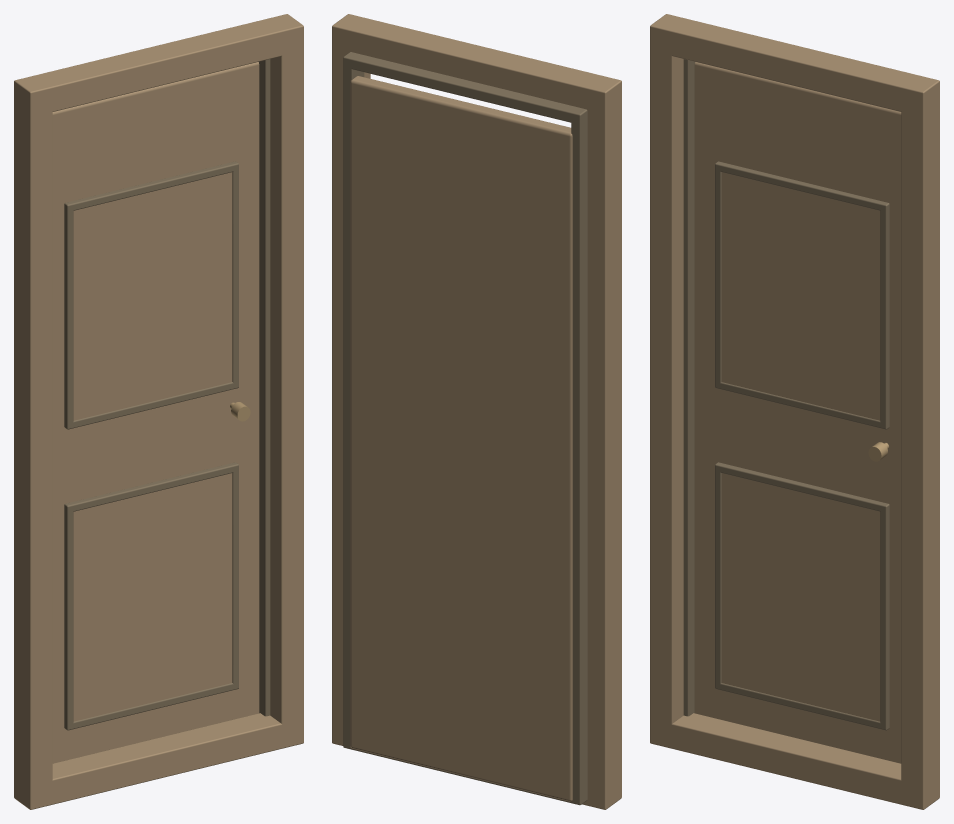
The model's file is doorway.glb.
3 renders of one model, left to right at view 1: azimuth 30°, elevation 25°; view 2: azimuth 150°, elevation 25°; view 3: azimuth 330°, elevation 25°, orthographic.
Visible parts, largest first — view 1: solid-door, door-panel-1-72-inset, door-panel-0-61-inset, door-architrave-stile--1, door-architrave-stile-1, door-architrave-rail--1, door-architrave-rail-1, stepped-reveal-stile-1, door-panel-0-61-stile--1, door-panel-1-72-stile--1, door-panel-0-61-rail-1, door-panel-1-72-rail-1 (+4 smaller); view 2: solid-door, door-architrave-stile--1, stepped-reveal-stile--1, door-architrave-rail-1, door-architrave-stile-1, stepped-reveal-stile-1, stepped-reveal-rail-1, door-architrave-rail--1, stepped-reveal-rail--1; view 3: solid-door, door-panel-1-72-inset, door-panel-0-61-inset, door-architrave-stile-1, door-architrave-stile--1, door-architrave-rail-1, door-architrave-rail--1, stepped-reveal-stile--1, door-panel-1-72-stile-1, door-panel-0-61-stile-1, door-panel-0-61-rail-1, door-panel-1-72-rail-1 (+4 smaller).
Boxes of the visible parts, x1,y1,x2,y2 form: solid-door: (52,62,259,763); door-panel-1-72-inset: (73,172,232,420); door-panel-0-61-inset: (73,473,232,721); door-architrave-stile--1: (14,75,52,809); door-architrave-stile-1: (267,14,303,746); door-architrave-rail--1: (14,713,303,809); door-architrave-rail-1: (14,19,303,116); stepped-reveal-stile-1: (259,59,270,716); door-panel-0-61-stile--1: (64,502,73,730); door-panel-1-72-stile--1: (64,202,73,429); door-panel-0-61-rail-1: (65,463,237,512); door-panel-1-72-rail-1: (66,161,238,210); solid-door: (350,76,572,801); door-architrave-stile--1: (584,75,621,809); stepped-reveal-stile--1: (571,108,587,805); door-architrave-rail-1: (332,19,621,116); door-architrave-stile-1: (332,14,370,743); stepped-reveal-stile-1: (343,54,364,748); stepped-reveal-rail-1: (343,52,586,123); door-architrave-rail--1: (332,719,621,809); stepped-reveal-rail--1: (343,738,587,804); solid-door: (694,62,901,763); door-panel-1-72-inset: (721,172,880,420); door-panel-0-61-inset: (721,473,880,721); door-architrave-stile-1: (901,75,939,802); door-architrave-stile--1: (650,14,686,746); door-architrave-rail-1: (650,19,939,116); door-architrave-rail--1: (650,713,939,809); stepped-reveal-stile--1: (683,59,694,716); door-panel-1-72-stile-1: (880,202,889,429); door-panel-0-61-stile-1: (880,502,889,729); door-panel-0-61-rail-1: (715,463,889,512); door-panel-1-72-rail-1: (715,161,888,210).
Size of the model in its own units: 1.13 by 2.83 by 0.1775.
